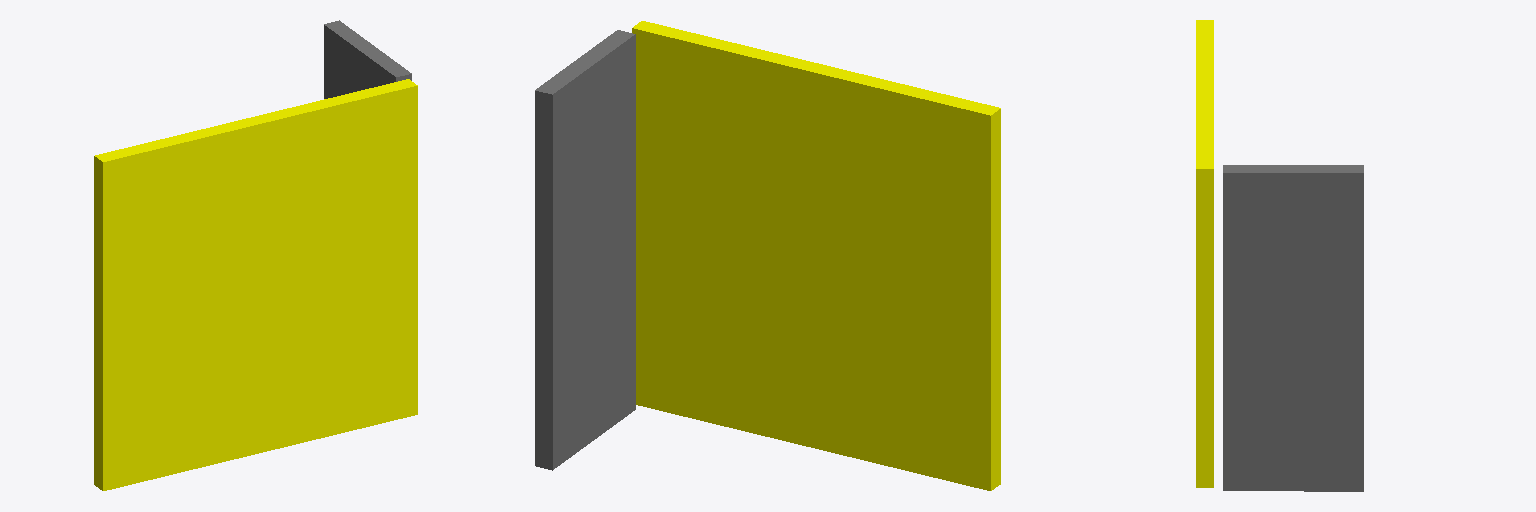
The robot description file, URDF, robot "solar_panel":
<?xml version="1.0" ?>
<robot name="solar_panel">

  <!-- 太阳能板主体 -->
  <link name="panel_link">
    <visual>
      <geometry>
        <box size="0.2 0.01 0.2"/>
      </geometry>
      <material name="yellow">
        <color rgba="1 1 0 1"/>
      </material>
    </visual>
    <collision>
      <geometry>
        <box size="0.2 0.01 0.2"/>
      </geometry>
    </collision>
    <inertial>
      <!-- 惯性属性的设置，可以根据实际情况进行调整 -->
      <origin xyz="0 0 0"/>
      <mass value="0.01"/>
      <inertia  ixx="0.001" ixy="0" ixz="0" iyy="0.003" iyz="0" izz="0.005"/>
    </inertial>
  </link>

  <!-- 太阳能板支撑脚 -->
  <link name="support_link">
    <visual>
      <geometry>
        <box size="0.08 0.01 0.2"/>
      </geometry>
      <material name="grey">
        <color rgba="0.5 0.5 0.5 1"/>
      </material>
    </visual>
    <collision>
      <geometry>
        <box size="0.08 0.01 0.2"/>
      </geometry>
    </collision>
    <inertial>
      <!-- 惯性属性的设置，可以根据实际情况进行调整 -->
      <origin xyz="0 0 0"/>
      <mass value="0.03"/>
      <inertia ixx="0.001" ixy="0" ixz="0" iyy="0.003" iyz="0" izz="0.005"/>
    </inertial>
  </link>

  <!-- 太阳能板和支撑脚的连接关节 -->
  <joint name="panel_support_joint" type="fixed">
    <parent link="panel_link"/>
    <child link="support_link"/>
    <origin rpy="0 0 1.57" xyz="0.1 0.05 0.0"/>
  </joint>

</robot>

--- What the picture shows (computed from the rendered views, not written in the file) ---
3 views of the same robot in one strip: view 1: azimuth 30°, elevation 25°; view 2: azimuth 150°, elevation 25°; view 3: azimuth 270°, elevation 25° (orthographic).
Model solar_panel with 2 links and 1 joints (1 fixed), rooted at panel_link, posed every joint at zero.
Links seen in each view (by area): view 1: panel_link, support_link; view 2: panel_link, support_link; view 3: support_link, panel_link.
Boxes of the visible links, x1,y1,x2,y2 form: panel_link: (94,79,417,490); support_link: (324,20,411,98); panel_link: (632,21,1000,490); support_link: (535,30,635,470); support_link: (1223,165,1363,491); panel_link: (1196,20,1213,487).
Size in the robot's own frame: 0.205 by 0.095 by 0.2 metres.
Geometry: primitives only (box / cylinder / sphere), no mesh files.
